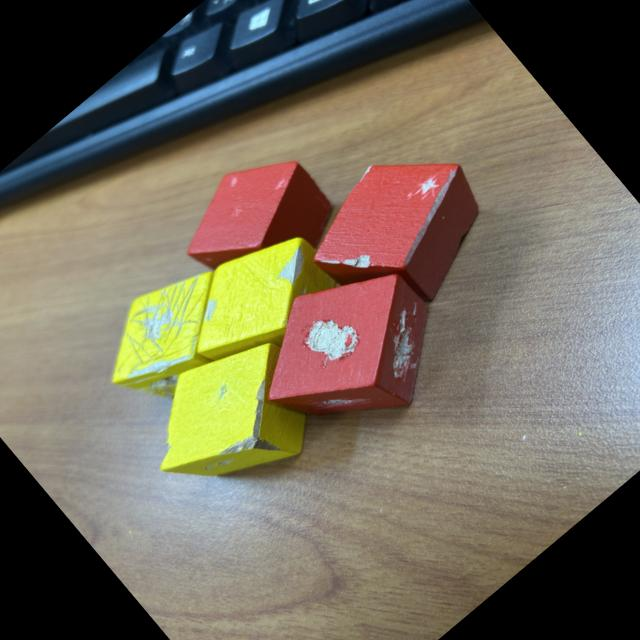broken: (226, 232, 472, 474), (288, 120, 516, 343), (119, 312, 343, 532), (162, 208, 354, 394), (162, 130, 350, 314), (79, 247, 263, 426)
